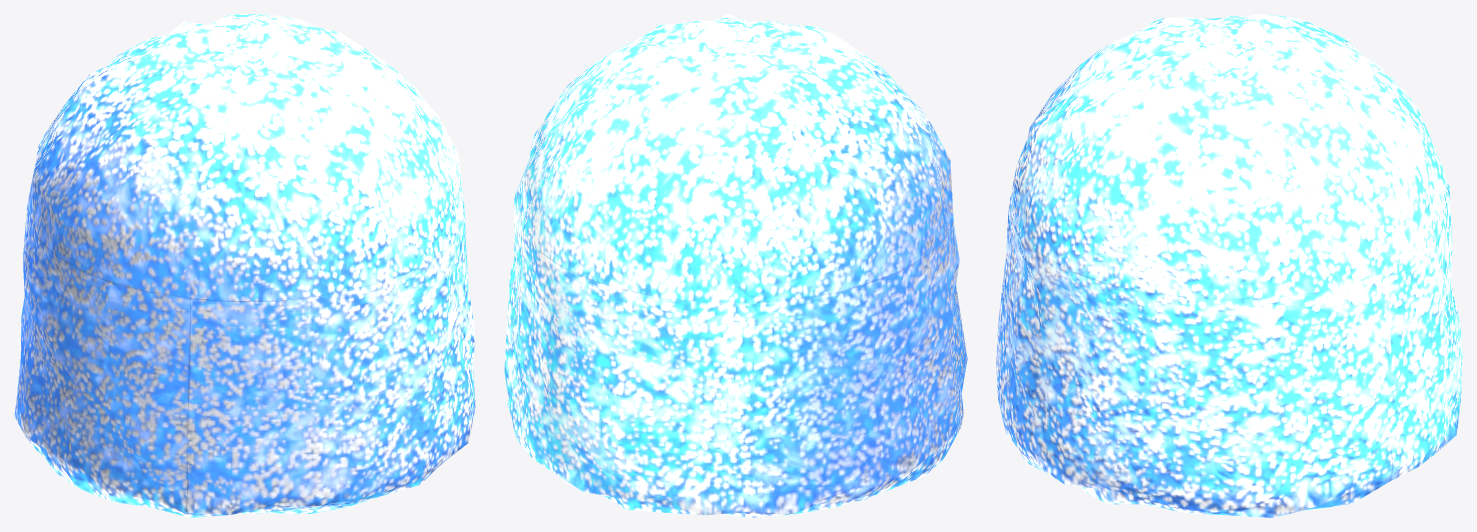
The model's file is gumdrop-2.glb.
3 renders of one model, left to right at view 1: azimuth 30°, elevation 25°; view 2: azimuth 150°, elevation 25°; view 3: azimuth 270°, elevation 25°, orthographic.
Visible parts, largest first — view 1: jujuba.adesivolowpoly.008; view 2: jujuba.adesivolowpoly.008; view 3: jujuba.adesivolowpoly.008.
Part boxes in pixels (x1,y1,x2,y2): jujuba.adesivolowpoly.008: (14,14,475,517); jujuba.adesivolowpoly.008: (504,14,967,517); jujuba.adesivolowpoly.008: (996,14,1462,517).
Size of the model in its own units: 2.1 by 1.95 by 2.11.
1 material, 1 textured.
